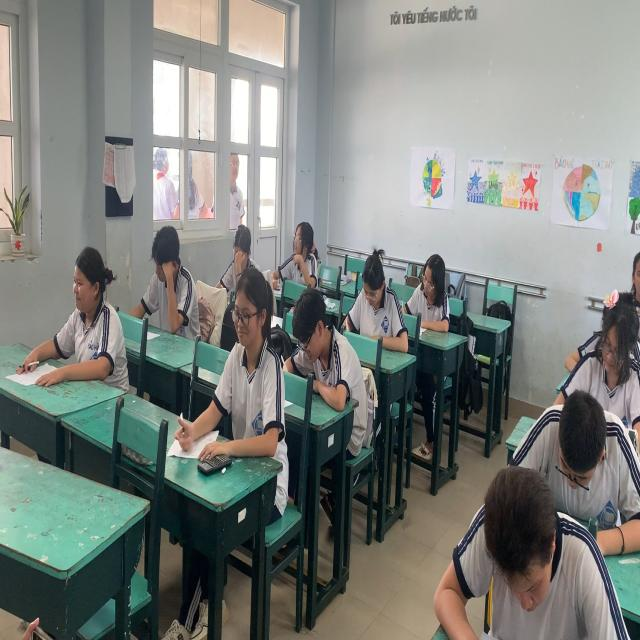not_cheating: (433, 465, 571, 640), (216, 264, 286, 475), (534, 368, 604, 520), (570, 272, 640, 392), (286, 279, 350, 395), (58, 247, 118, 367), (142, 208, 194, 337), (348, 233, 402, 340), (392, 233, 450, 326), (274, 212, 322, 298), (216, 219, 262, 268)
